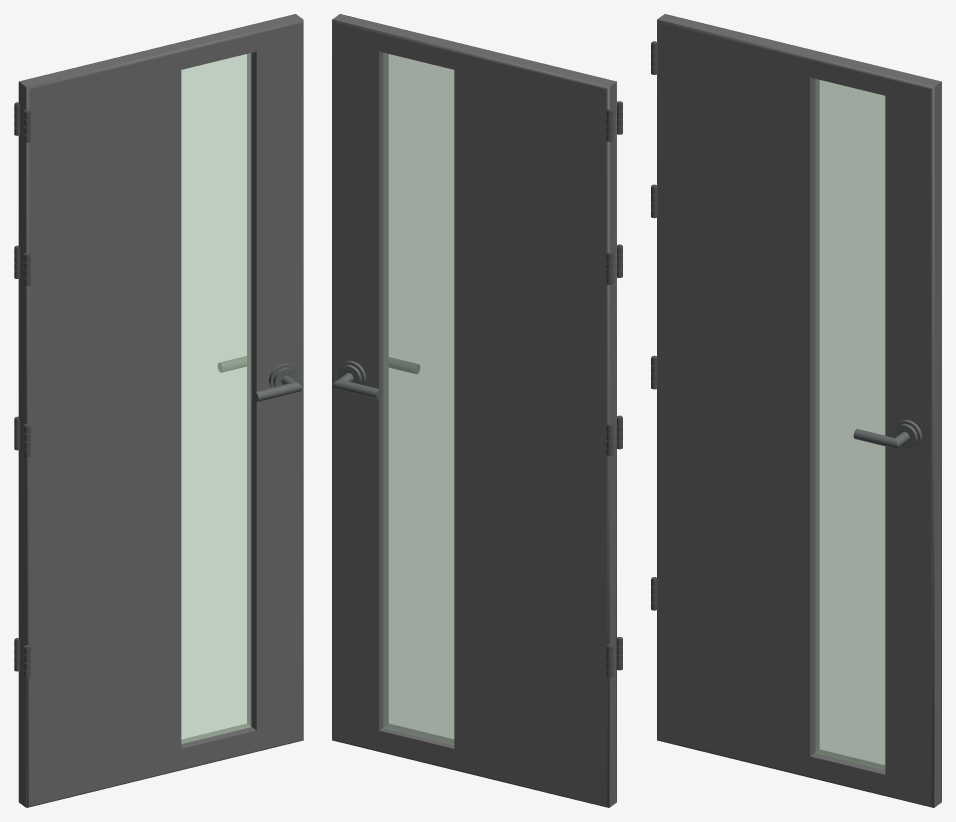
File: 3d-door.model.fbx
3 views of the same model, side by side, from view 1: azimuth 30°, elevation 25°; view 2: azimuth 150°, elevation 25°; view 3: azimuth 330°, elevation 25° (orthographic).
Parts seen in each view (by area): view 1: Layer0_001, door handle_001; view 2: Layer0_001, door handle_002; view 3: Layer0_001, door handle_001.
Boxes of the visible parts, bbox=[...] form: Layer0_001: bbox=[14, 14, 303, 807]; door handle_001: bbox=[253, 363, 302, 401]; Layer0_001: bbox=[332, 14, 622, 807]; door handle_002: bbox=[332, 360, 381, 399]; Layer0_001: bbox=[651, 14, 941, 807]; door handle_001: bbox=[853, 419, 922, 449].
Bounding box in the file's own units: 33.45 × 82 × 8.71.
